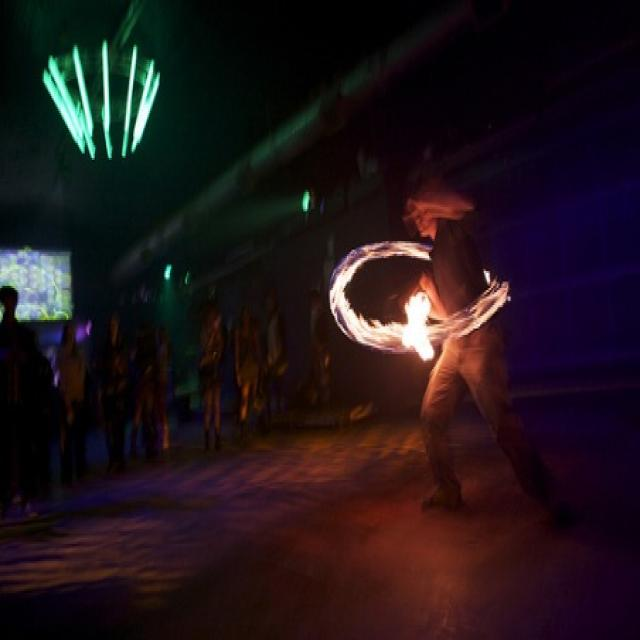People: (389, 163, 536, 578), (132, 283, 188, 489), (98, 252, 148, 471), (0, 264, 42, 499), (46, 277, 100, 450), (228, 271, 278, 445), (196, 274, 239, 474)
